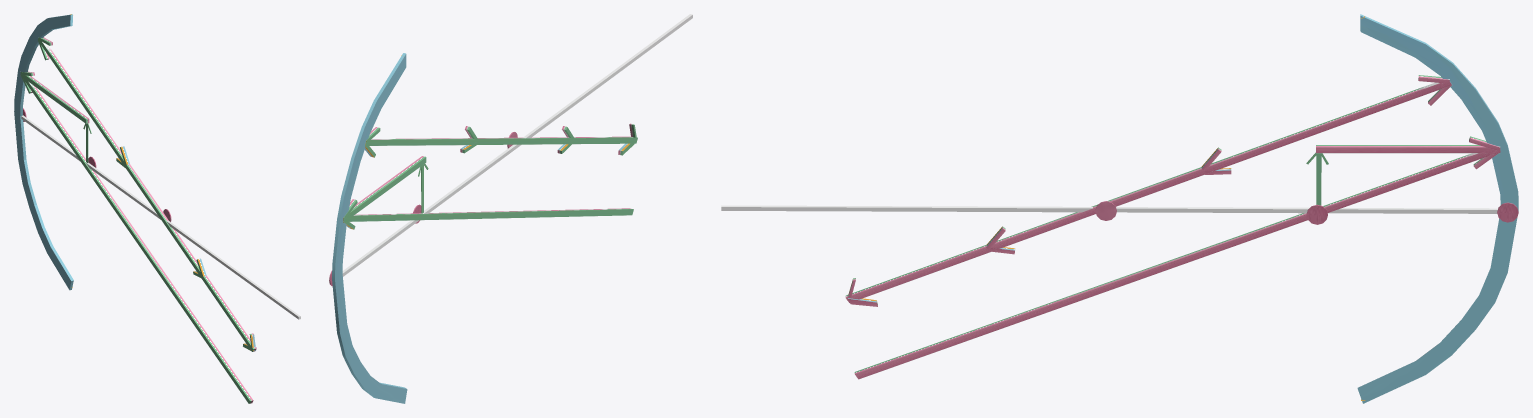
File: case5.fbx
The picture shows the model from 3 angles, left to right: view 1: azimuth 30°, elevation 25°; view 2: azimuth 150°, elevation 25°; view 3: azimuth 270°, elevation 25°; orthographic projection. The views are drawn at different scales.
Visible parts, largest first — view 1: casae5; view 2: casae5; view 3: casae5.
Boxes of the visible parts, bbox=[...] form: casae5: bbox=[14, 14, 300, 403]; casae5: bbox=[329, 14, 692, 403]; casae5: bbox=[721, 14, 1518, 403].
Bounding box in the file's own units: 1.02 × 38.58 × 71.81.
1 material, 1 textured.
